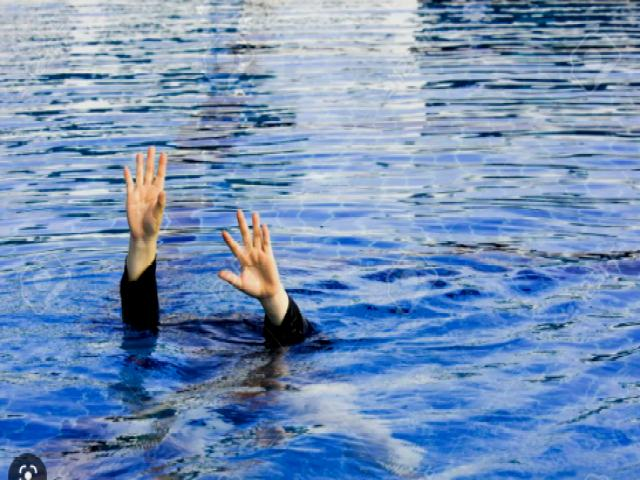drowning: (113, 143, 319, 348)
